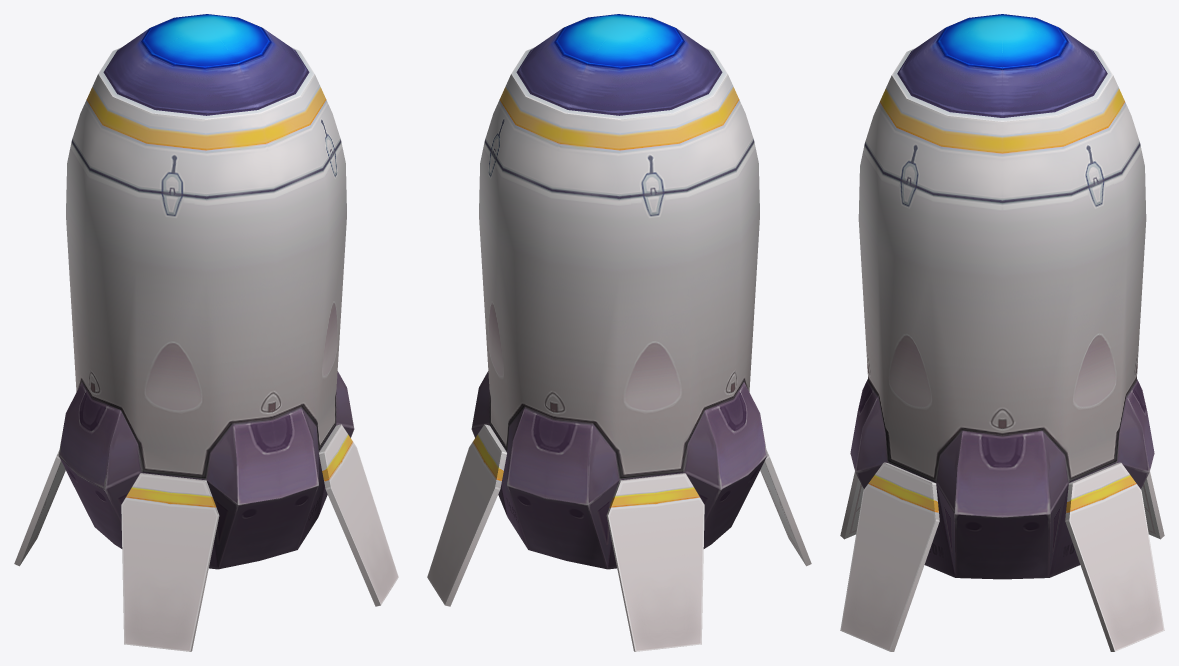
The model's file is Missile.FBX.
3 renders of one model, left to right at view 1: azimuth 30°, elevation 25°; view 2: azimuth 150°, elevation 25°; view 3: azimuth 270°, elevation 25°, orthographic. The views are drawn at different scales.
Parts seen in each view (by area): view 1: Missile; view 2: Missile; view 3: Missile.
Part boxes in pixels (x1,y1,x2,y2): Missile: (14, 14, 398, 651); Missile: (427, 14, 811, 651); Missile: (840, 14, 1164, 651).
Size of the model in its own units: 179 by 341 by 179.
1 material, 1 textured.
